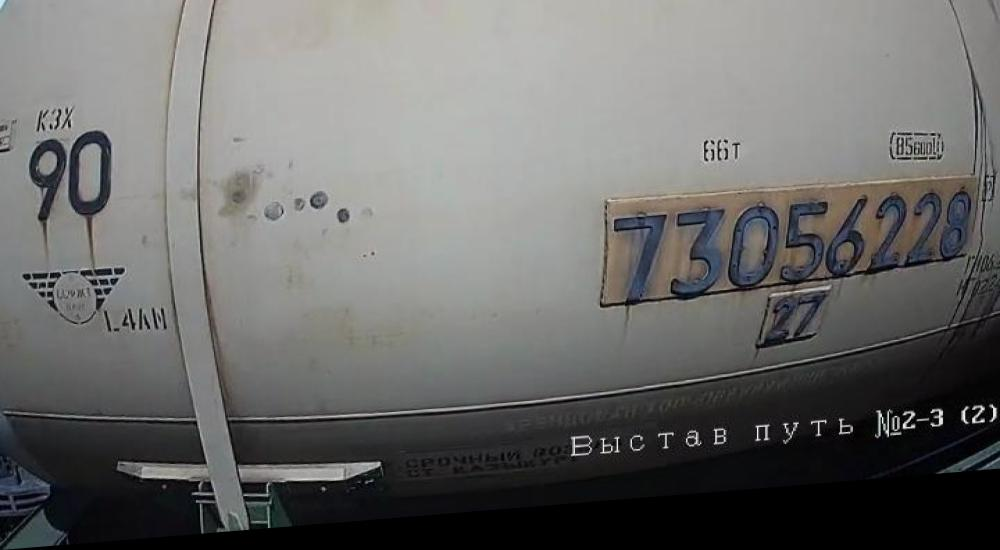Wagon-number: (610, 191, 973, 317)
